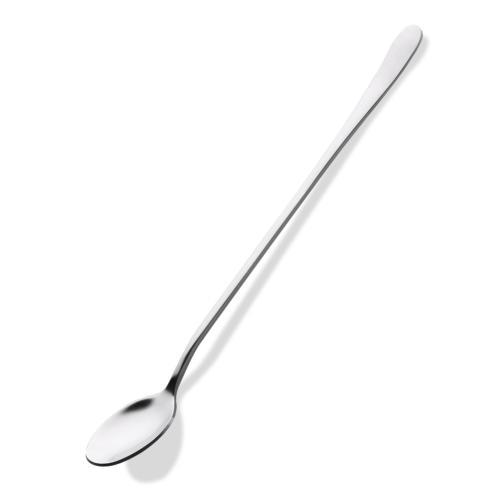Spoon: (85, 25, 424, 466)
